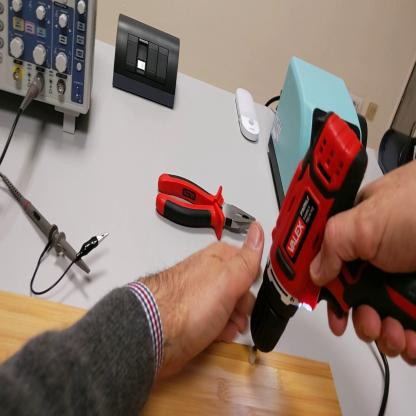electric screwdriver: (247, 120, 416, 358)
hand: (311, 162, 416, 363), (162, 219, 266, 375)
oscilloscope: (1, 1, 97, 138)
oscilloscope probe tip: (4, 173, 91, 276)
pliers: (155, 174, 255, 240)
socket: (380, 130, 415, 178), (358, 116, 370, 146)
welder station: (269, 52, 363, 213)
working area: (1, 292, 343, 416)
